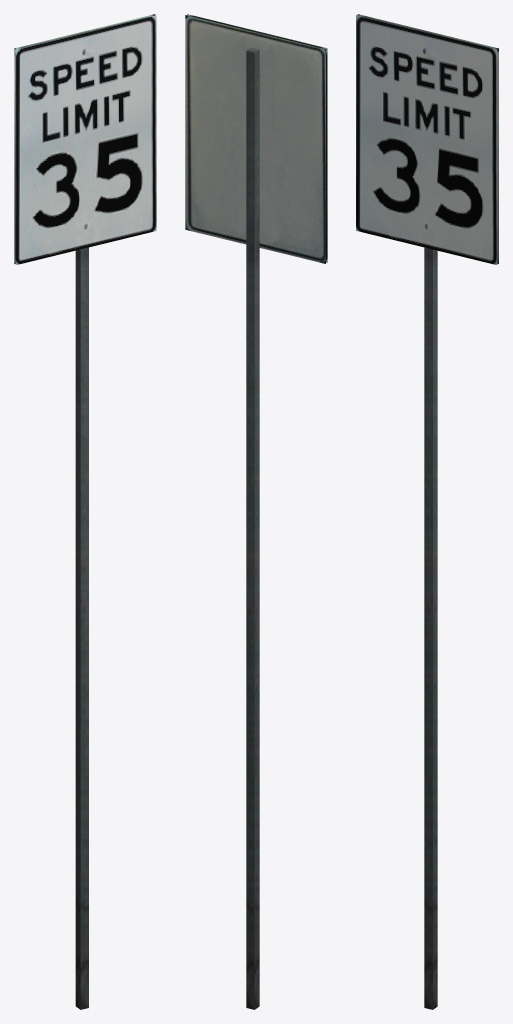
Rendered from speedlimit35.obj.
3 renders of one model, left to right at view 1: azimuth 30°, elevation 25°; view 2: azimuth 150°, elevation 25°; view 3: azimuth 330°, elevation 25°, orthographic.
Parts seen in each view (by area): view 1: handicawparking01; view 2: handicawparking01; view 3: handicawparking01.
Part boxes in pixels (bbox=[...]): handicawparking01: bbox=[14, 14, 156, 1009]; handicawparking01: bbox=[185, 14, 327, 1009]; handicawparking01: bbox=[356, 14, 498, 1009].
Size of the model in its own units: 0.3288 by 2.17 by 0.0262.
1 material, 1 textured.
